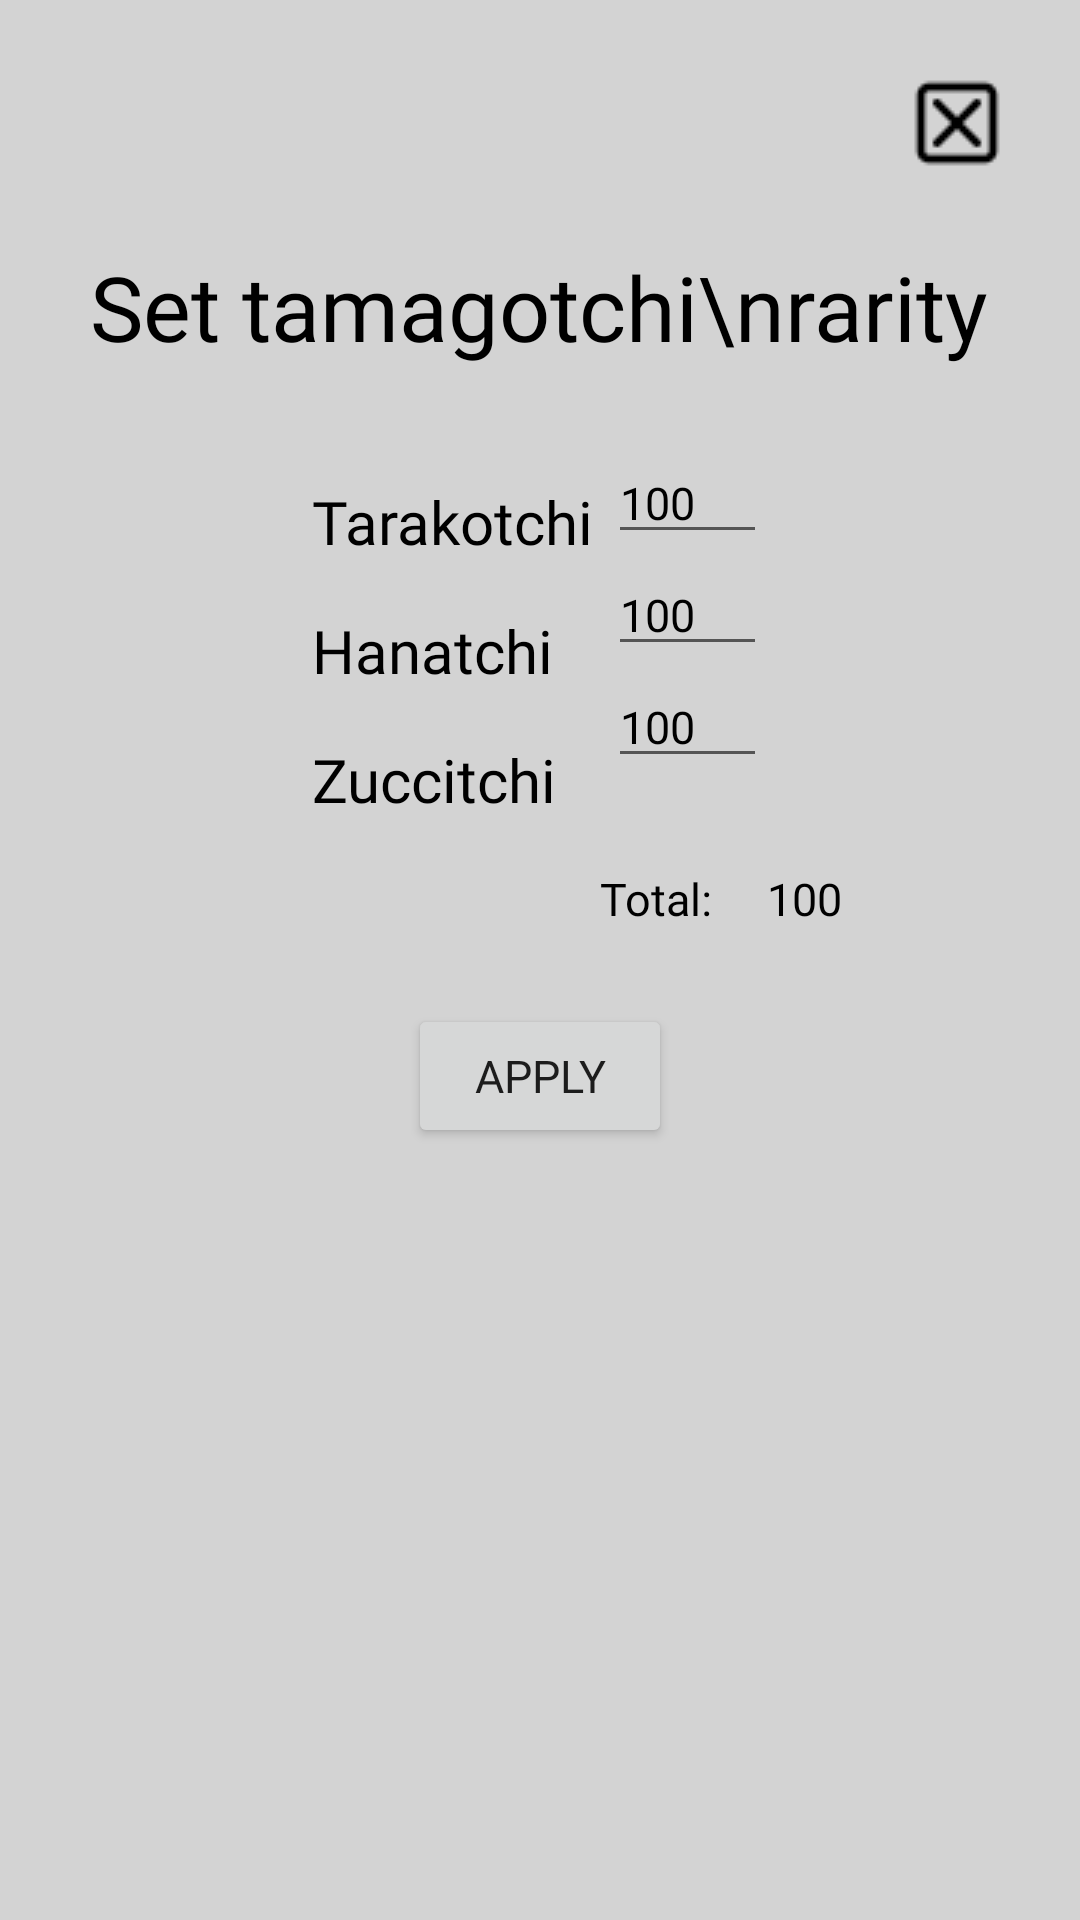

Where to tap for icons on this 1080*1920 app screen, as point (x, y):
close window: point (957, 123)
